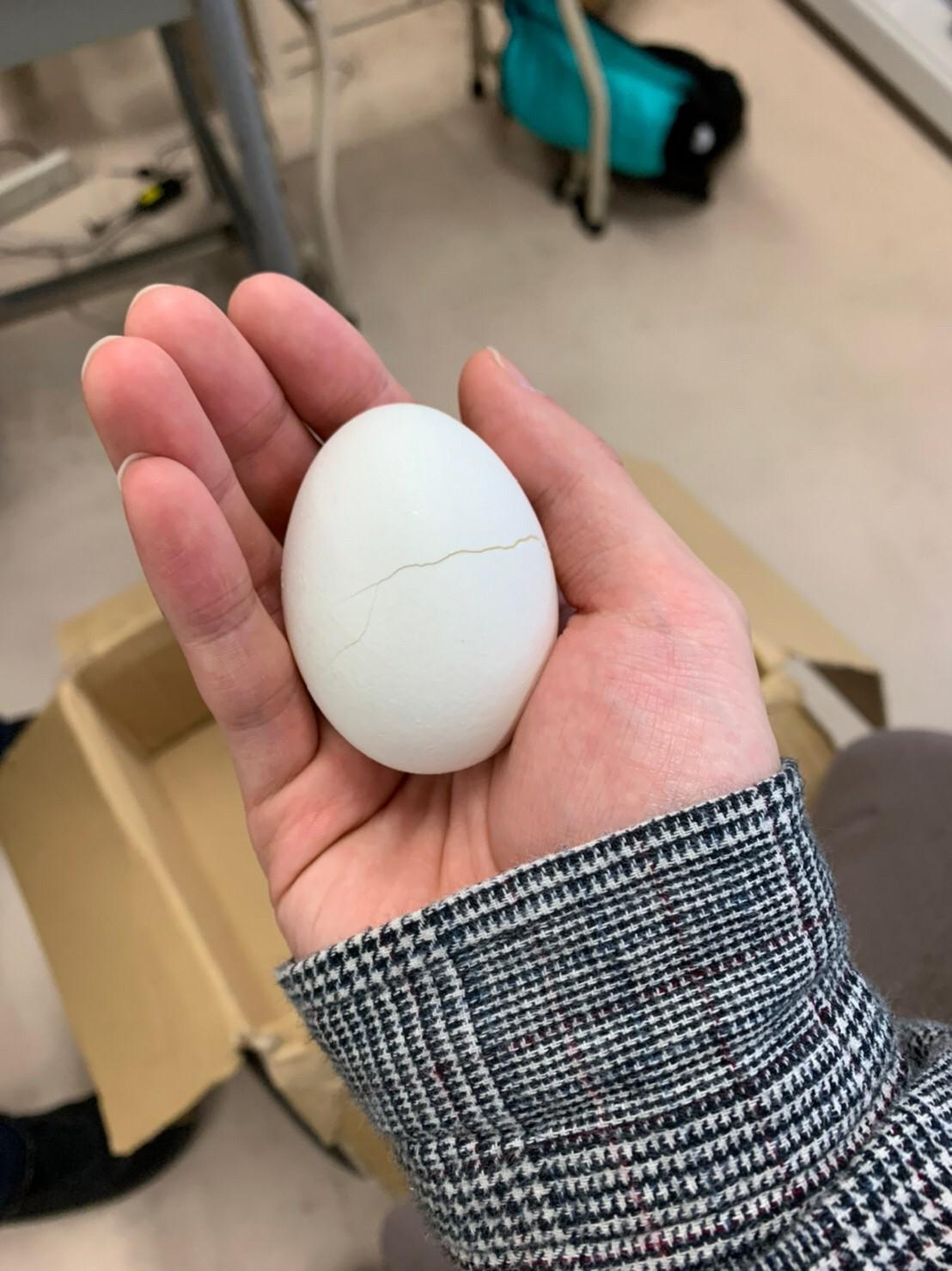egg: (274, 399, 561, 777)
